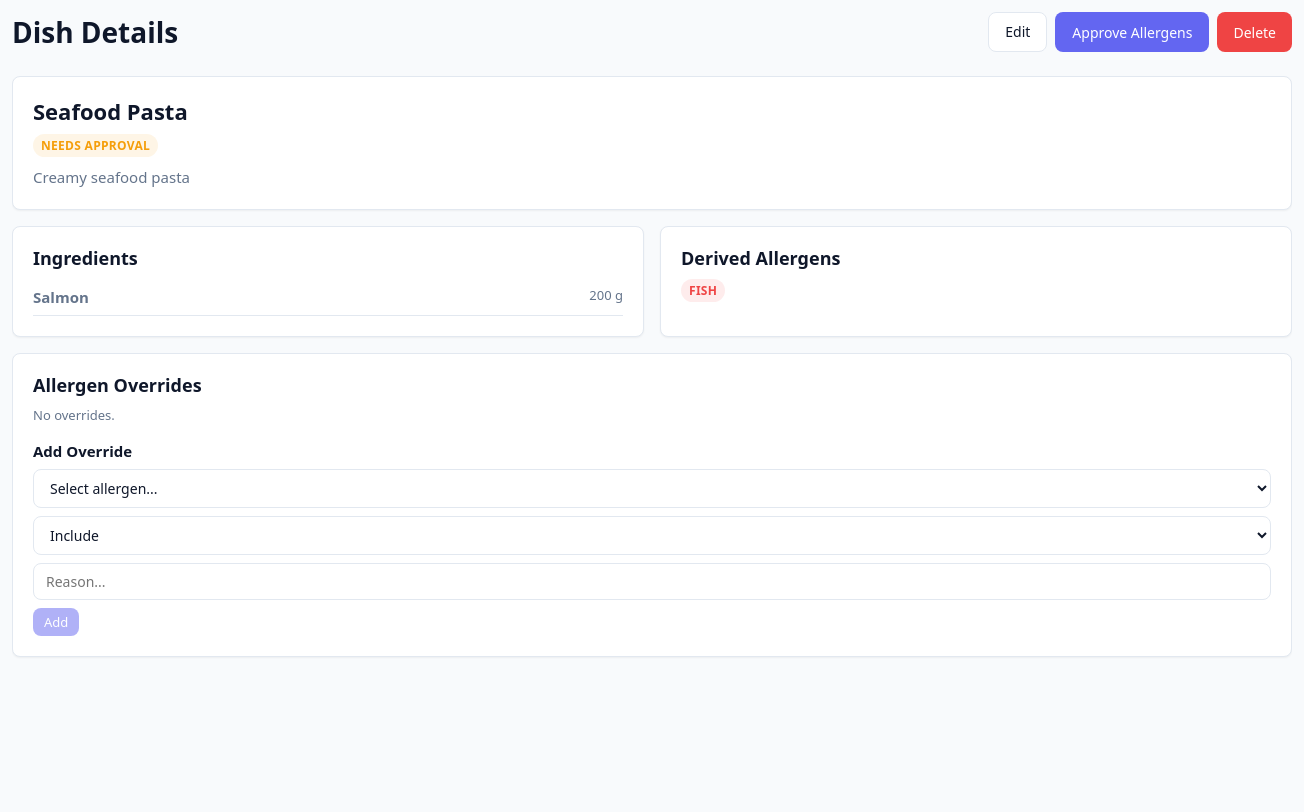
Test case: DishDetailView › loads a dish, approves it, and adds an override
Expected: the heading "Seafood Pasta" is shown, [33,96,188,126]
Expected: the text "Needs approval" is shown, [33,134,158,157]
Click the button "Approve Allergens". click: (1132, 32)
box: [1055,12,1209,52]
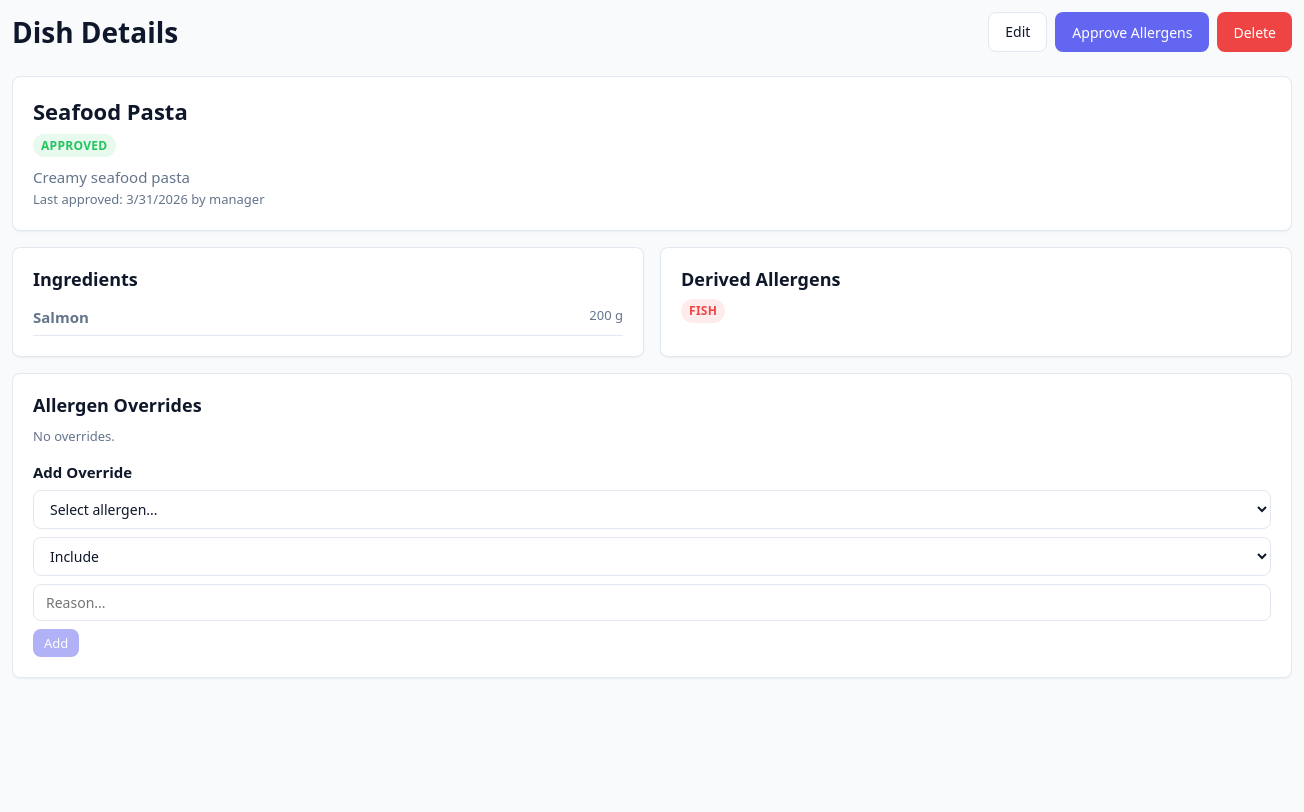
Result: the text "Approved" is shown at [33,134,116,157]
Select "Milk" in the 1st dropdown showing "Select allergen...". click: (652, 510)
box: [33,490,1271,529]
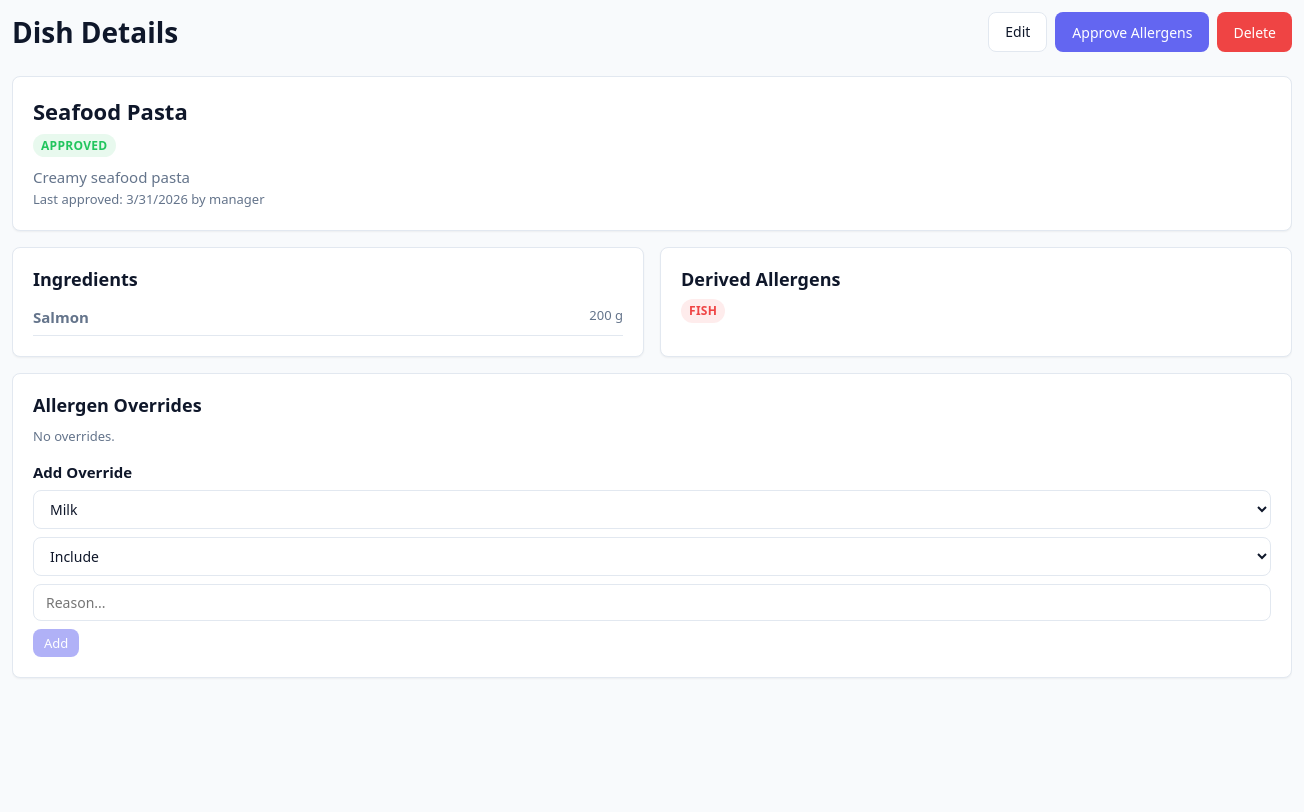
Type "Cream sauce" into the field with placeholder "Reason...". click: (652, 602)
box: [33,584,1271,621]
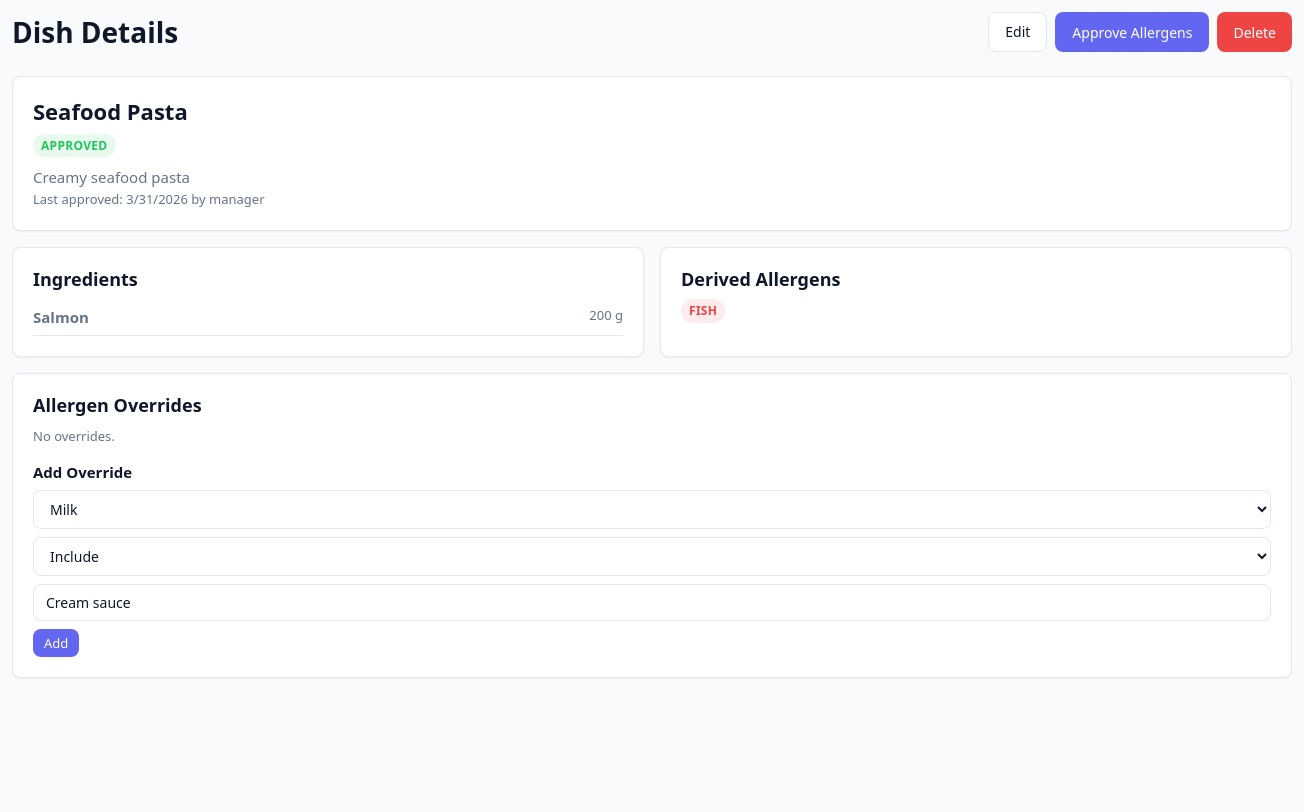
Click the button "Add". click: (56, 643)
box: [33,629,79,657]
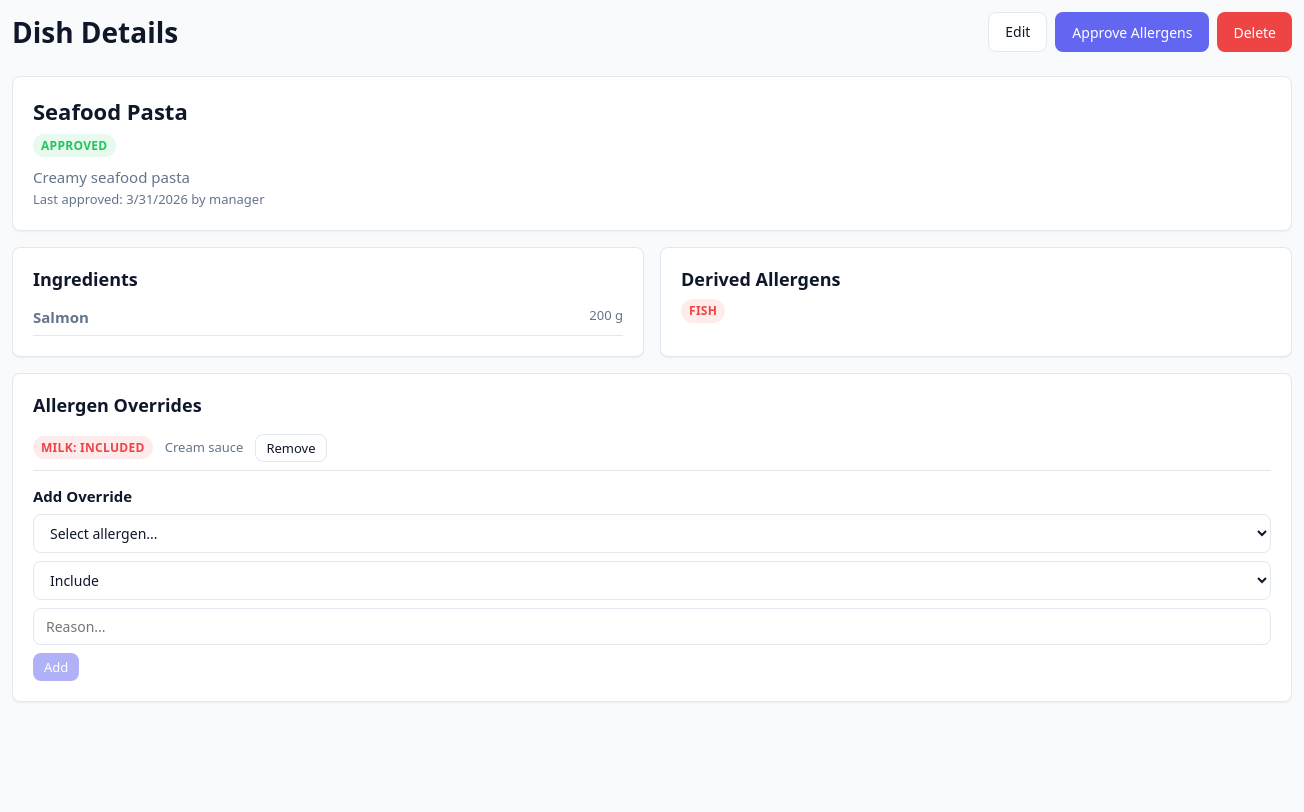
Result: the text "Milk: Included" is shown at [33,436,153,459]
